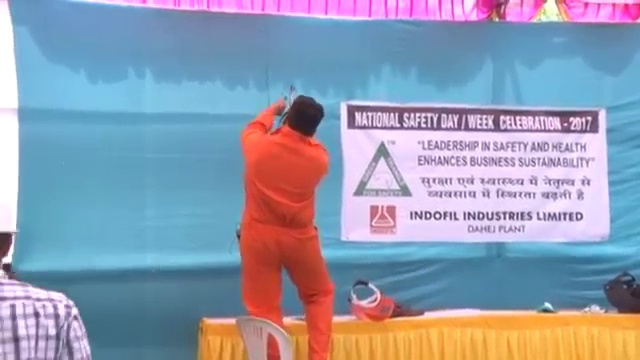helmet: (1, 201, 22, 238)
helmet_off: (286, 99, 323, 137)
helmet_on: (1, 202, 22, 274)
person: (233, 100, 338, 360), (1, 202, 91, 357)
